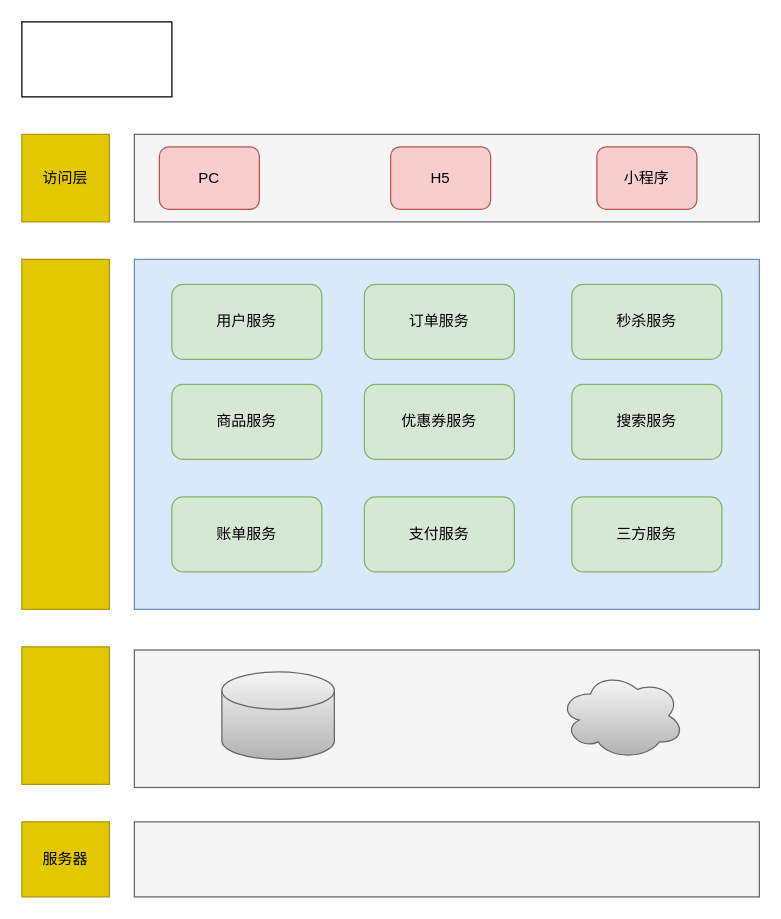
Some shapes in this 781 by 919 pixel diagram are drawn without their labels. The shapes that lost their labels are listed below. From the top down, each one's centre as x and y in pixels, then its label:
At [96,59]: "业务架构图".
At [65,433]: "服务层".
At [65,715]: "数据存储".
At [277,715]: "存储".
At [621,715]: "缓存".
At [446,859]: "ECS".
